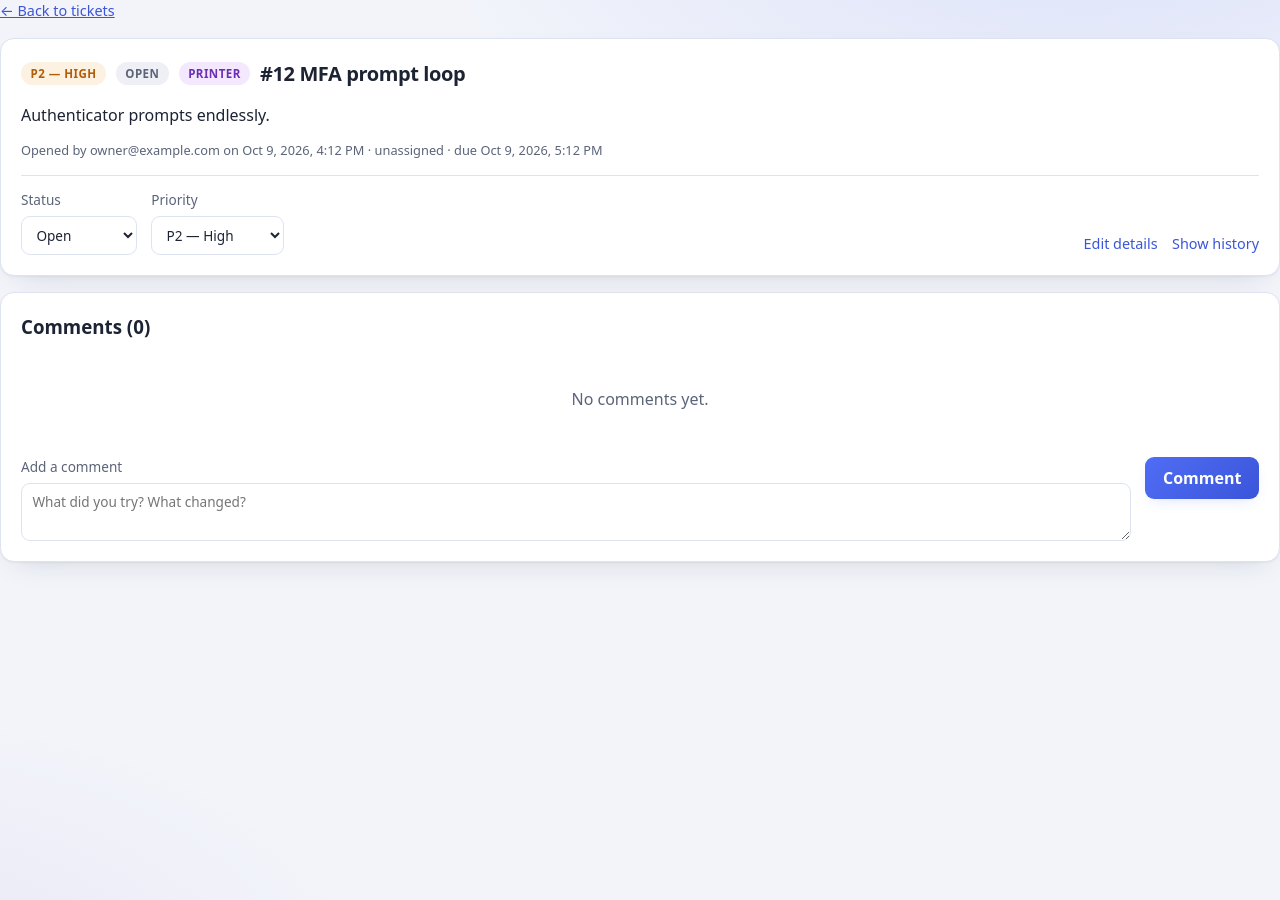
edit details › opens a form prefilled from the ticket and cancels without a request
This screenshot has width=1280, height=900.
Expected: the heading "#12 MFA prompt loop" is shown, [260, 59, 465, 89]
Click the button "Edit details". click: (1121, 244)
box: [1084, 233, 1158, 254]
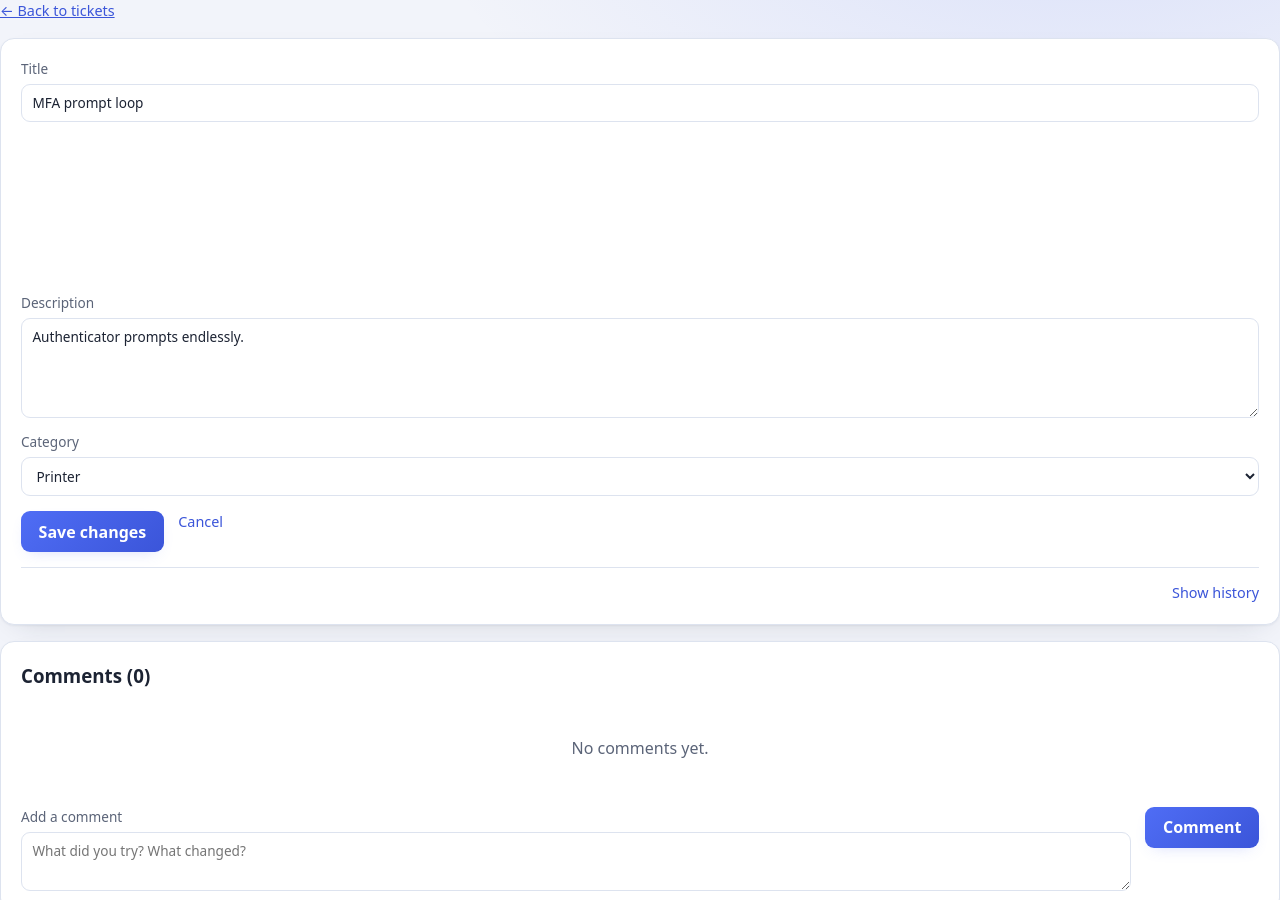
Expected: the field labelled "Title" holds "MFA prompt loop", [21, 84, 1259, 122]
Expected: the text box labelled "Description" holds "Authenticator prompts endlessly.", [21, 318, 1259, 418]
Expected: the dropdown labelled "Category" shows "Printer", [21, 457, 1259, 496]
Click the button "Cancel". click: (201, 522)
box: [178, 511, 223, 532]
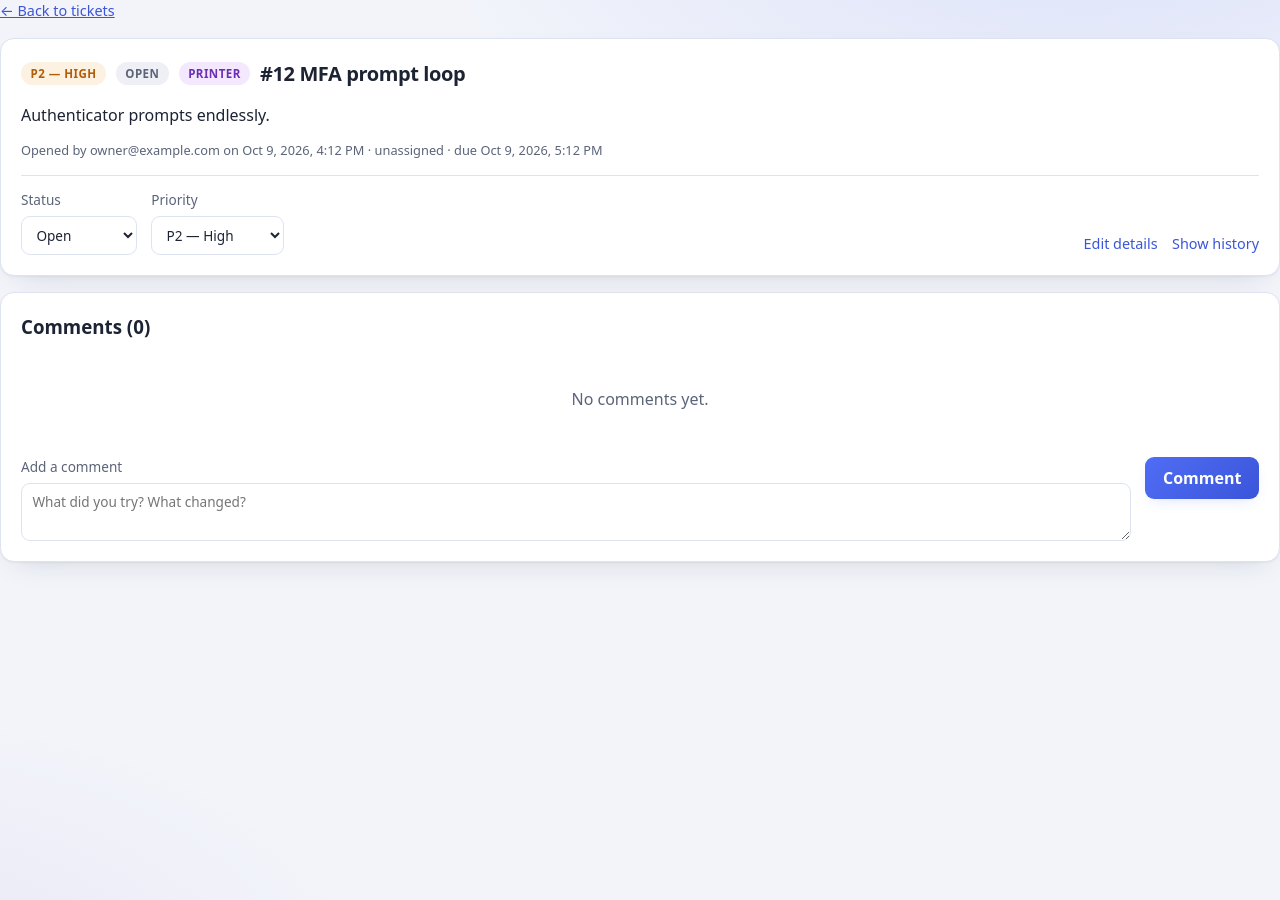
Expected: the dropdown labelled "Status" is shown, [21, 216, 137, 254]
Expected: the text labelled "Title" is gone
